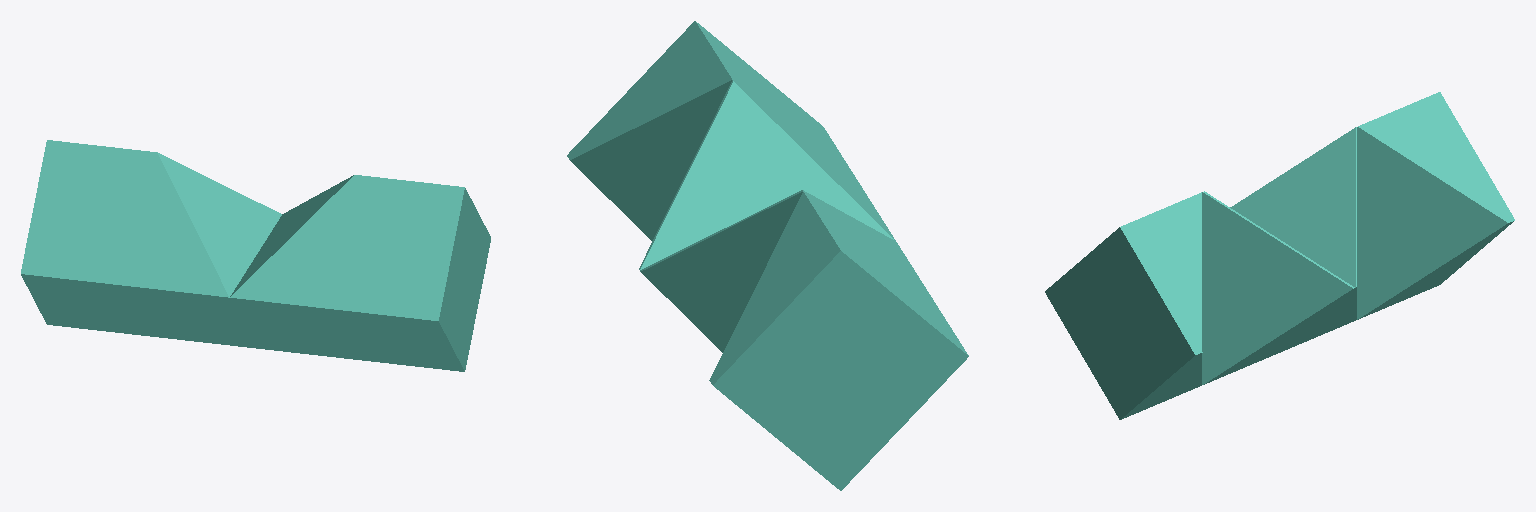
The robot description file, URDF, robot "obj_3":
<robot name="obj_3" version="1.0">
  <link name="link_3">
    <collision name="3-collision.001">
      <origin rpy="0.78540 0.00000 2.35619" xyz="-0.45202 0.30659 0.23854"/>
      <geometry>
        <mesh filename="../meshes/obj/3-collision.001.obj" scale="0.00500 0.00500 0.00500"/>
      </geometry>
    </collision>
    <collision name="3-collision.002">
      <origin rpy="0.78540 0.00000 2.35619" xyz="-0.45202 0.30659 0.23854"/>
      <geometry>
        <mesh filename="../meshes/obj/3-collision.002.obj" scale="0.00500 0.00500 0.00500"/>
      </geometry>
    </collision>
    <collision name="3-collision.003">
      <origin rpy="0.78540 0.00000 2.35619" xyz="-0.45202 0.30659 0.23854"/>
      <geometry>
        <mesh filename="../meshes/obj/3-collision.003.obj" scale="0.00500 0.00500 0.00500"/>
      </geometry>
    </collision>
    <collision name="3-collision.004">
      <origin rpy="0.78540 0.00000 2.35619" xyz="-0.45202 0.30659 0.23854"/>
      <geometry>
        <mesh filename="../meshes/obj/3-collision.004.obj" scale="0.00500 0.00500 0.00500"/>
      </geometry>
    </collision>
    <collision name="3-collision.005">
      <origin rpy="0.78540 0.00000 2.35619" xyz="-0.45202 0.30659 0.23854"/>
      <geometry>
        <mesh filename="../meshes/obj/3-collision.005.obj" scale="0.00500 0.00500 0.00500"/>
      </geometry>
    </collision>
    <collision name="3-collision.006">
      <origin rpy="0.78540 0.00000 2.35619" xyz="-0.45202 0.30659 0.23854"/>
      <geometry>
        <mesh filename="../meshes/obj/3-collision.006.obj" scale="0.00500 0.00500 0.00500"/>
      </geometry>
    </collision>
    <collision name="3-collision.007">
      <origin rpy="0.78540 0.00000 2.35619" xyz="-0.45202 0.30659 0.23854"/>
      <geometry>
        <mesh filename="../meshes/obj/3-collision.007.obj" scale="0.00500 0.00500 0.00500"/>
      </geometry>
    </collision>
    <collision name="3-collision.008">
      <origin rpy="0.78540 0.00000 2.35619" xyz="-0.45202 0.30659 0.23854"/>
      <geometry>
        <mesh filename="../meshes/obj/3-collision.008.obj" scale="0.00500 0.00500 0.00500"/>
      </geometry>
    </collision>
    <collision name="3-collision.009">
      <origin rpy="0.78540 0.00000 2.35619" xyz="-0.45202 0.30659 0.23854"/>
      <geometry>
        <mesh filename="../meshes/obj/3-collision.009.obj" scale="0.00500 0.00500 0.00500"/>
      </geometry>
    </collision>
    <collision name="3-collision.010">
      <origin rpy="0.78540 0.00000 2.35619" xyz="-0.45202 0.30659 0.23854"/>
      <geometry>
        <mesh filename="../meshes/obj/3-collision.010.obj" scale="0.00500 0.00500 0.00500"/>
      </geometry>
    </collision>
    <collision name="3-collision.011">
      <origin rpy="0.78540 0.00000 2.35619" xyz="-0.45202 0.30659 0.23854"/>
      <geometry>
        <mesh filename="../meshes/obj/3-collision.011.obj" scale="0.00500 0.00500 0.00500"/>
      </geometry>
    </collision>
    <collision name="3-collision.012">
      <origin rpy="0.78540 0.00000 2.35619" xyz="-0.45202 0.30659 0.23854"/>
      <geometry>
        <mesh filename="../meshes/obj/3-collision.012.obj" scale="0.00500 0.00500 0.00500"/>
      </geometry>
    </collision>
    <collision name="3-collision.013">
      <origin rpy="0.78540 0.00000 2.35619" xyz="-0.45202 0.30659 0.23854"/>
      <geometry>
        <mesh filename="../meshes/obj/3-collision.013.obj" scale="0.00500 0.00500 0.00500"/>
      </geometry>
    </collision>
    <collision name="3-collision.014">
      <origin rpy="0.78540 0.00000 2.35619" xyz="-0.45202 0.30659 0.23854"/>
      <geometry>
        <mesh filename="../meshes/obj/3-collision.014.obj" scale="0.00500 0.00500 0.00500"/>
      </geometry>
    </collision>
    <collision name="3-collision.015">
      <origin rpy="0.78540 0.00000 2.35619" xyz="-0.45202 0.30659 0.23854"/>
      <geometry>
        <mesh filename="../meshes/obj/3-collision.015.obj" scale="0.00500 0.00500 0.00500"/>
      </geometry>
    </collision>
    <collision name="3-collision.016">
      <origin rpy="0.78540 0.00000 2.35619" xyz="-0.45202 0.30659 0.23854"/>
      <geometry>
        <mesh filename="../meshes/obj/3-collision.016.obj" scale="0.00500 0.00500 0.00500"/>
      </geometry>
    </collision>
    <collision name="3-collision.017">
      <origin rpy="0.78540 0.00000 2.35619" xyz="-0.45202 0.30659 0.23854"/>
      <geometry>
        <mesh filename="../meshes/obj/3-collision.017.obj" scale="0.00500 0.00500 0.00500"/>
      </geometry>
    </collision>
    <collision name="3-collision.018">
      <origin rpy="0.78540 0.00000 2.35619" xyz="-0.45202 0.30659 0.23854"/>
      <geometry>
        <mesh filename="../meshes/obj/3-collision.018.obj" scale="0.00500 0.00500 0.00500"/>
      </geometry>
    </collision>
    <collision name="3-collision.019">
      <origin rpy="0.78540 0.00000 2.35619" xyz="-0.45202 0.30659 0.23854"/>
      <geometry>
        <mesh filename="../meshes/obj/3-collision.019.obj" scale="0.00500 0.00500 0.00500"/>
      </geometry>
    </collision>
    <collision name="3-collision.020">
      <origin rpy="0.78540 0.00000 2.35619" xyz="-0.45202 0.30659 0.23854"/>
      <geometry>
        <mesh filename="../meshes/obj/3-collision.020.obj" scale="0.00500 0.00500 0.00500"/>
      </geometry>
    </collision>
    <inertial>
      <inertia ixx="0.00012" ixy="0.00008" ixz="-0.00000" iyy="0.00012" iyz="-0.00000" izz="0.00020"/>
      <origin rpy="0.00000 0.00000 0.00000" xyz="-0.48018 0.27842 0.21863"/>
      <mass value="0.01000"/>
    </inertial>
    <visual name="3">
      <material name="turnarrow"/>
      <origin rpy="0.78540 0.00000 2.35619" xyz="-0.45202 0.30659 0.23854"/>
      <geometry>
        <mesh filename="../meshes/obj/6 part puzzle cube.002.obj" scale="0.00500 0.00500 0.00500"/>
      </geometry>
    </visual>
  </link>
  <material name="turnarrow">
    <color rgba="0.44314 0.80000 0.74118 1.00000"/>
  </material>
</robot>

--- Render facts (derived) ---
3 views of the same robot in one strip: view 1: azimuth 30°, elevation 25°; view 2: azimuth 150°, elevation 25°; view 3: azimuth 270°, elevation 25° (orthographic).
Model obj_3 with 1 links and 0 joints (none), rooted at link_3, posed all joints at 0.
Links seen in each view (by area): view 1: link_3; view 2: link_3; view 3: link_3.
Boxes of the visible links, x1,y1,x2,y2 form: link_3: (21,140,490,371); link_3: (567,21,968,490); link_3: (1045,92,1514,419).
Bounding box of the posed robot: 0.4682 × 0.4682 × 0.2121 m (x, y, z).
1 mesh visuals loaded from 1 distinct referenced files (1 OBJ).